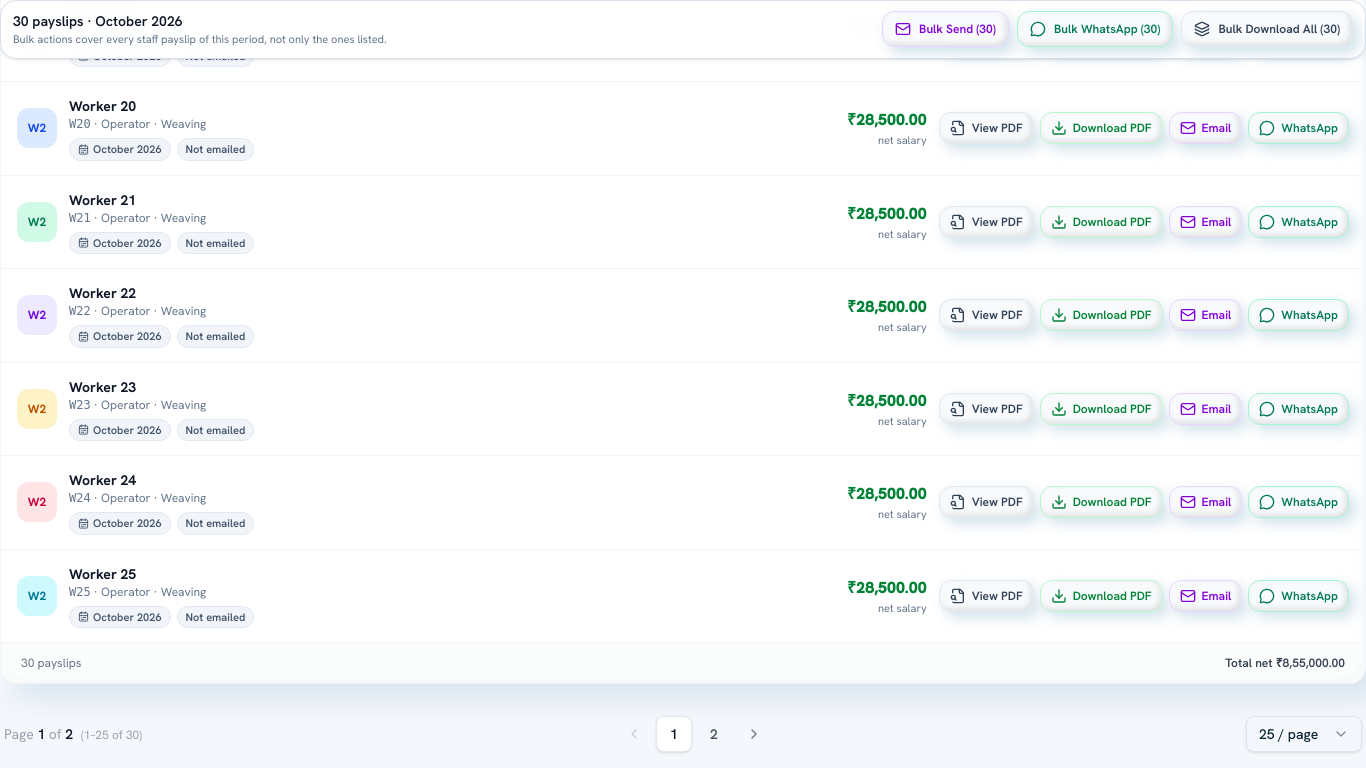
Test: paging › shows 25 slips a page and the rest on the next
(page scrolled)
Click the button named "Page 2": {"x": 714, "y": 734} [696,716,732,752]
(page scrolled)
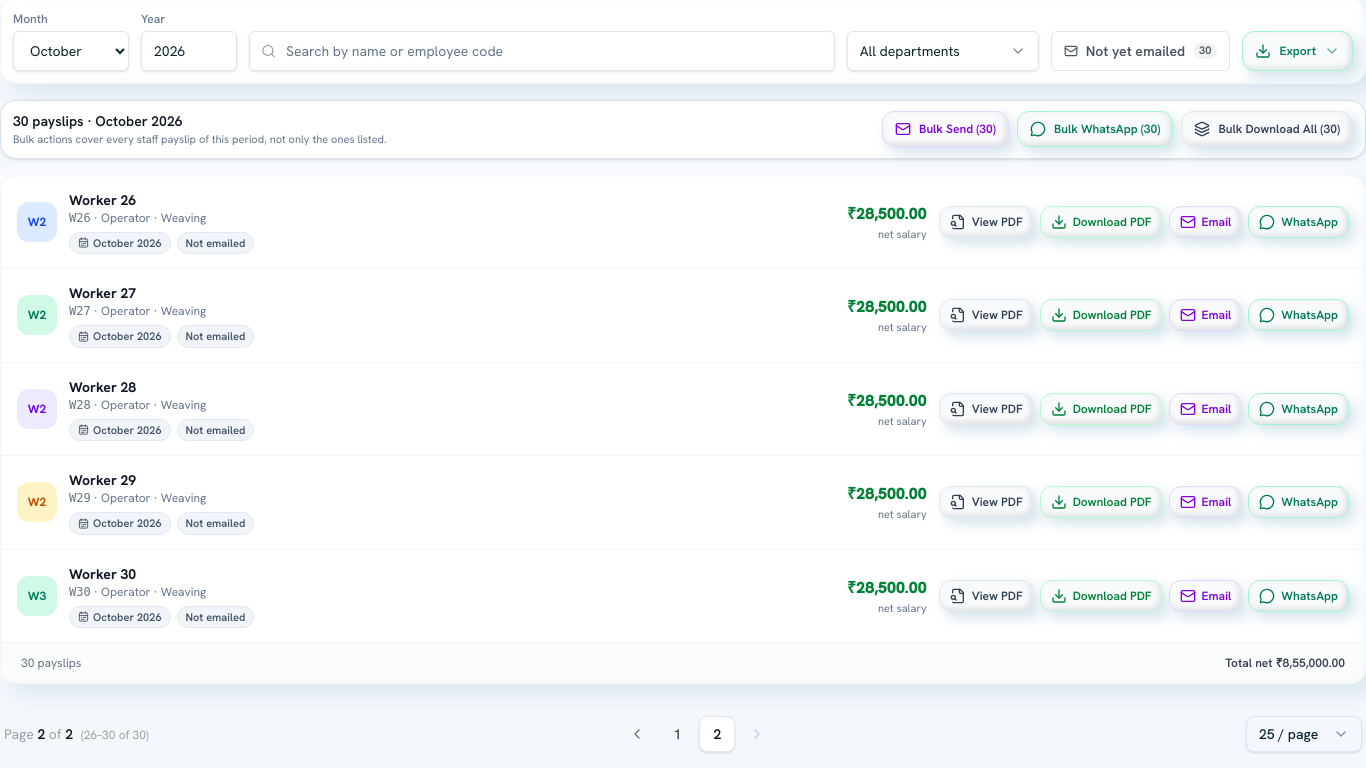
Expected: the text with class "font-bold" reads "Worker 26", [69,191,136,209]
